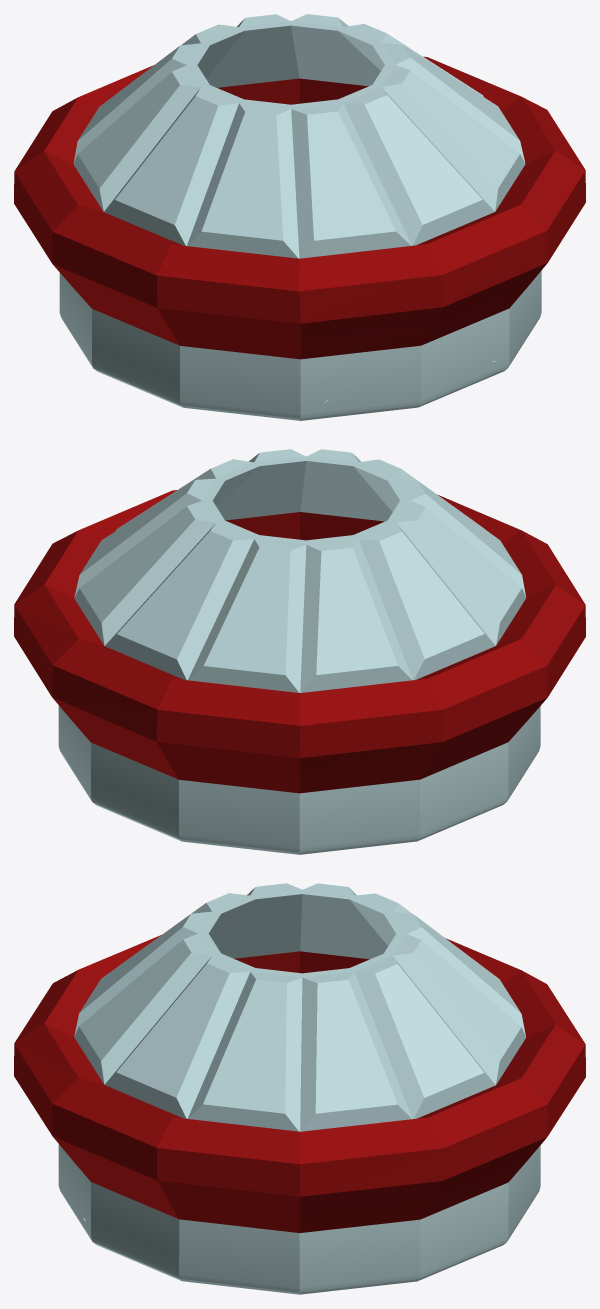
File: WalkingOnSunshine.FBX
The picture shows the model from 3 angles, top to bottom: view 1: azimuth 30°, elevation 25°; view 2: azimuth 150°, elevation 25°; view 3: azimuth 270°, elevation 25°; orthographic projection.
Visible parts, largest first — view 1: Propulsor003; view 2: Propulsor003; view 3: Propulsor003.
Boxes of the visible parts, <box> form: Propulsor003: <box>14,14,585,420</box>; Propulsor003: <box>14,449,585,854</box>; Propulsor003: <box>14,883,585,1294</box>.
Bounding box in the file's own units: 8.06 × 4.05 × 8.06.
